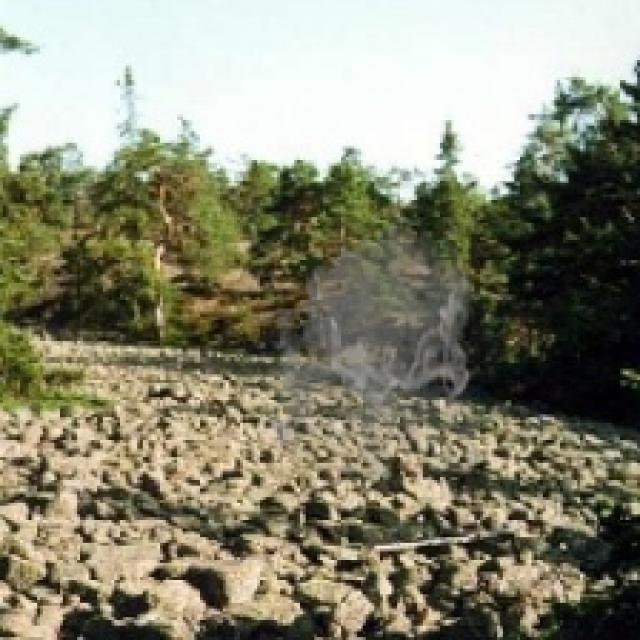Smoke: (262, 203, 478, 483)
